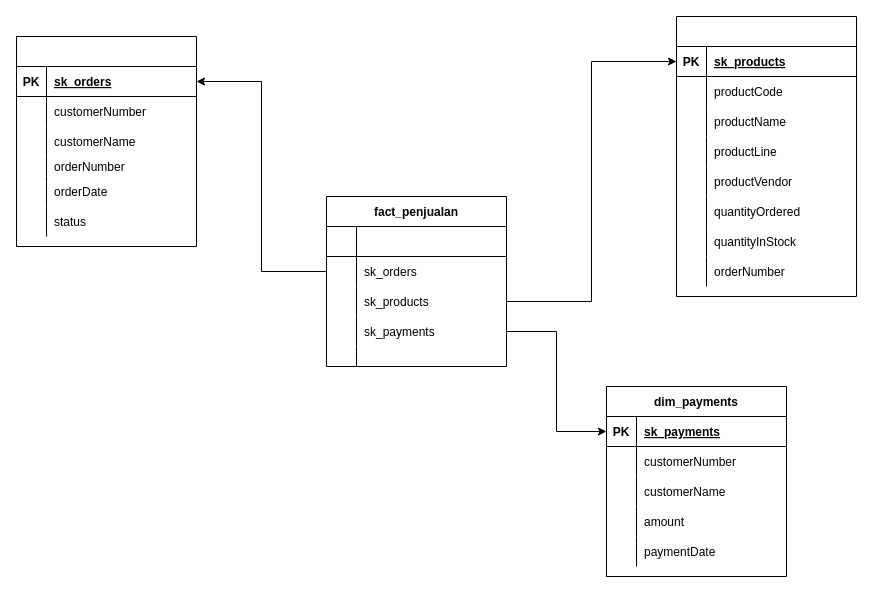
Some shapes in this 873 by 593 pixel diagram are drawn without their labels. Each missing label, with the box of its shape:
dim_orders: (16, 36, 196, 246)
dim_products: (676, 16, 856, 296)
